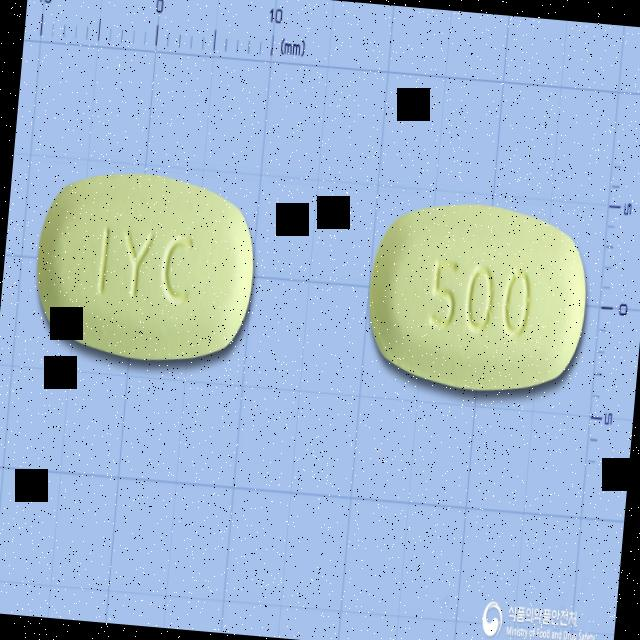Clafacin: (358, 188, 600, 408), (24, 160, 266, 376)
